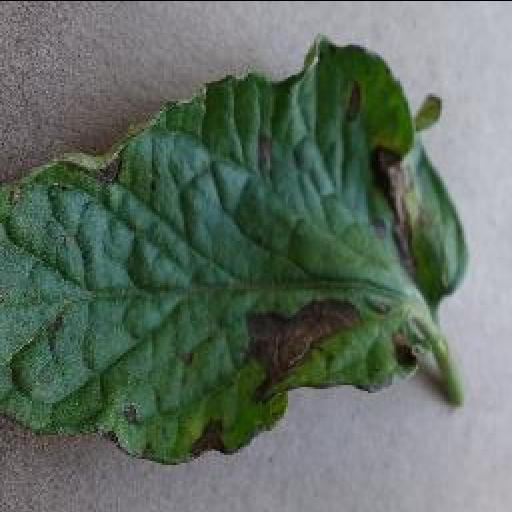Early Blight: (0, 42, 468, 466)
